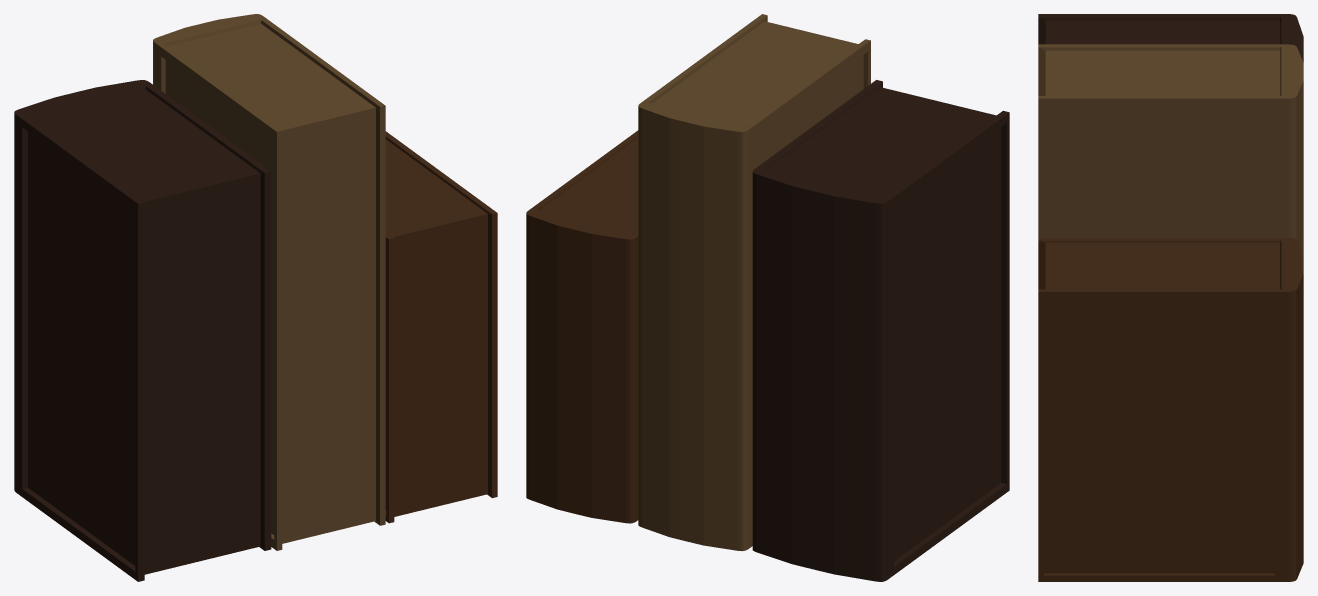
File: basicbooks.fbx
3 views of the same model, side by side, from view 1: azimuth 30°, elevation 25°; view 2: azimuth 150°, elevation 25°; view 3: azimuth 270°, elevation 25° (orthographic). The views are drawn at different scales.
Parts seen in each view (by area): view 1: Cube.008, Cube.007, Cube.006; view 2: Cube.008, Cube.007, Cube.006; view 3: Cube.006, Cube.007, Cube.008.
Part boxes in pixels (box(x1,y1,x2,y2)): Cube.008: box(14, 80, 271, 581); Cube.007: box(153, 14, 385, 550); Cube.006: box(385, 131, 497, 523); Cube.008: box(752, 80, 1009, 581); Cube.007: box(638, 14, 870, 551); Cube.006: box(526, 130, 638, 523); Cube.006: box(1038, 238, 1303, 581); Cube.007: box(1038, 44, 1303, 255); Cube.008: box(1038, 14, 1303, 62).
Bounding box in the file's own units: 33.12 × 36.89 × 20.74.
